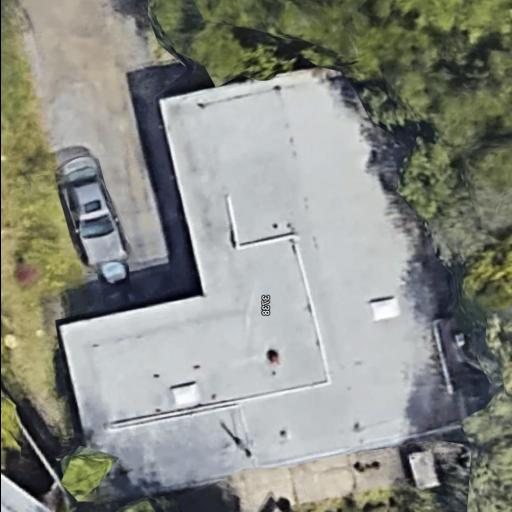TreeShading-Slope-Roof: (58, 50, 486, 504)
